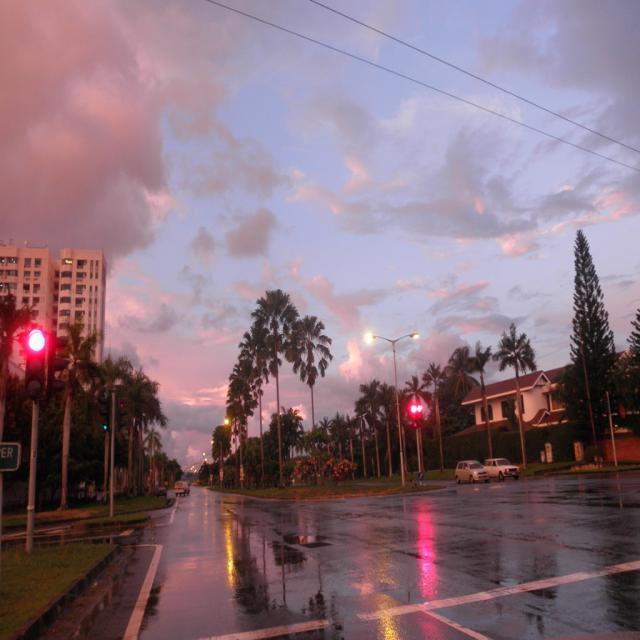off traffic light: (48, 344, 71, 400)
traffic light: (20, 330, 51, 401)
